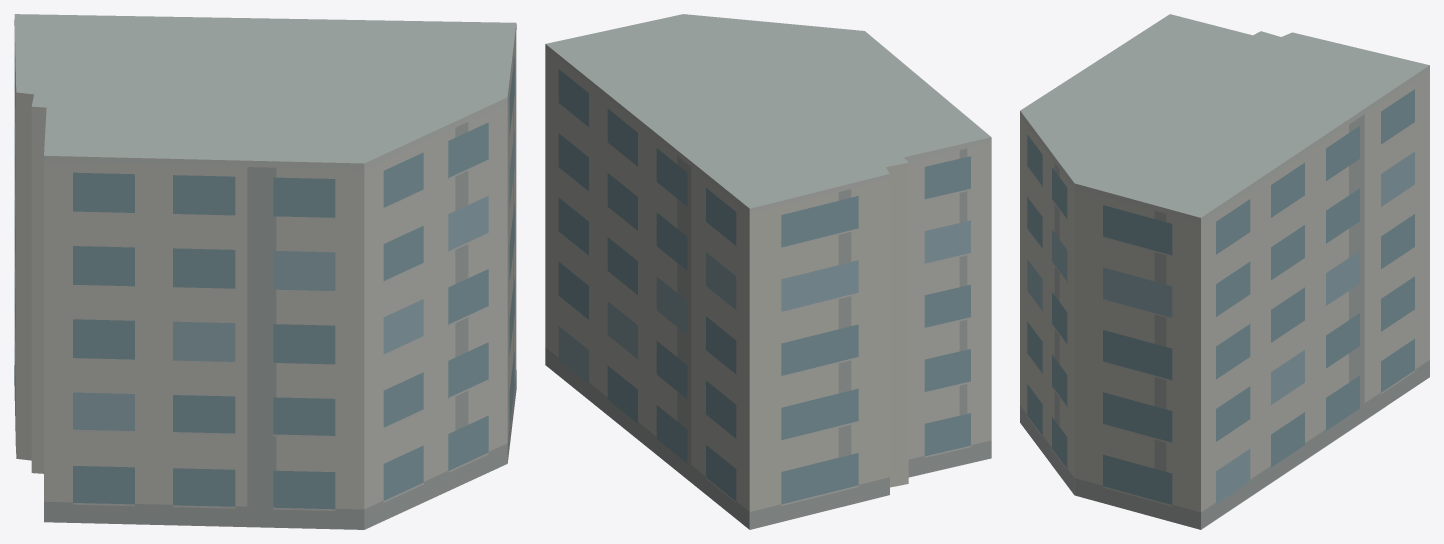
The model's file is survey-upis-32569563.glb.
3 renders of one model, left to right at view 1: azimuth 30°, elevation 25°; view 2: azimuth 150°, elevation 25°; view 3: azimuth 270°, elevation 25°, orthographic. The views are drawn at different scales.
Visible parts, largest first — view 1: survey-upis-32569563.tmp; view 2: survey-upis-32569563.tmp; view 3: survey-upis-32569563.tmp.
Part boxes in pixels (<box>): survey-upis-32569563.tmp: <box>14,14,516,529</box>; survey-upis-32569563.tmp: <box>545,14,991,529</box>; survey-upis-32569563.tmp: <box>1020,14,1429,529</box>.
Size of the model in its own units: 19.77 by 14.1 by 16.79.
